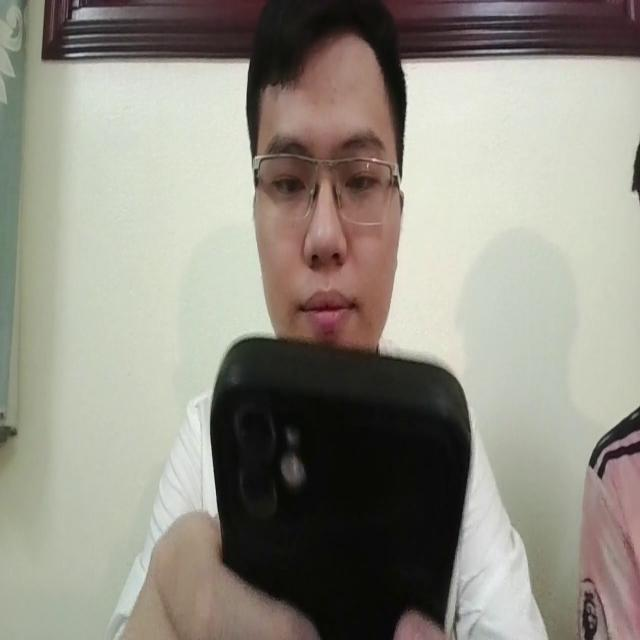phone: (208, 319, 475, 640)
student: (103, 0, 553, 640)
